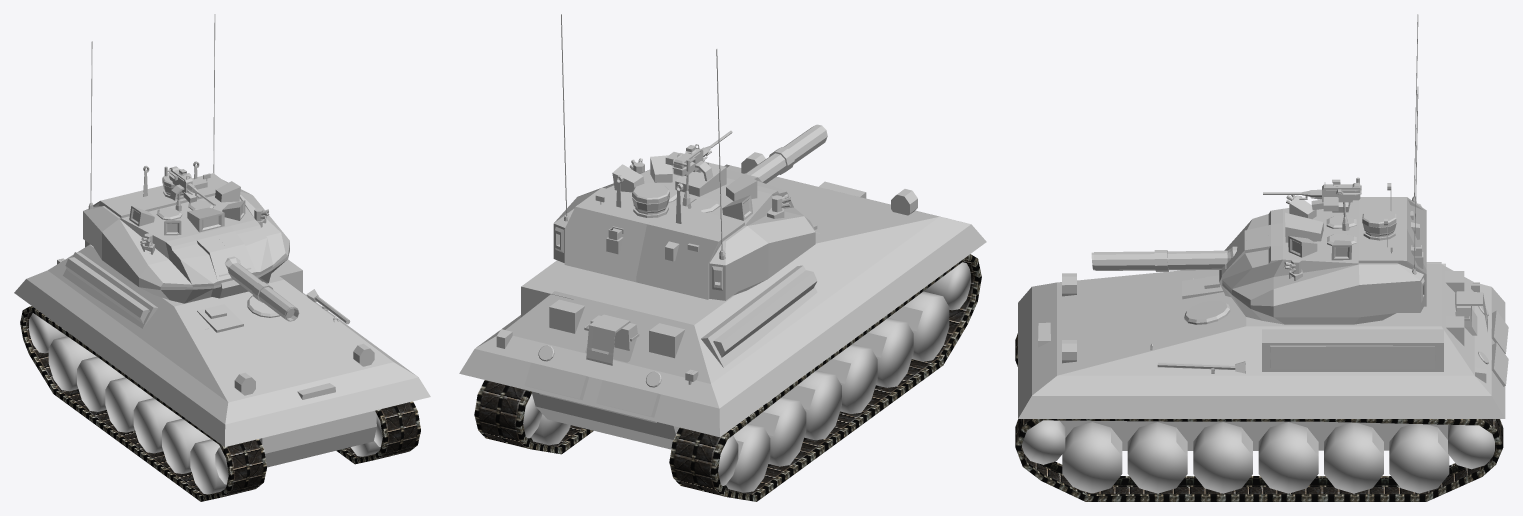
File: FV101 Scorpion.fbx
3 views of the same model, side by side, from view 1: azimuth 30°, elevation 25°; view 2: azimuth 150°, elevation 25°; view 3: azimuth 270°, elevation 25° (orthographic). The views are drawn at different scales.
Parts seen in each view (by area): view 1: polySurface529, polySurface528, polySurface441, polySurface432, polySurface436, polySurface437, polySurface438, polySurface439, polySurface440, polySurface308, polySurface434, polySurface435; view 2: polySurface529, polySurface528, polySurface441, polySurface432, polySurface434, polySurface436, polySurface437, polySurface438, polySurface439, polySurface440, polySurface308, polySurface433 (+2 smaller); view 3: polySurface529, polySurface528, polySurface432, polySurface380, polySurface382, polySurface381, polySurface383, polySurface378, polySurface384, polySurface308, polySurface379, polySurface377.
Part boxes in pixels (<box>): polySurface529: <box>14,240,430,467</box>; polySurface528: <box>83,14,289,303</box>; polySurface441: <box>20,306,266,501</box>; polySurface432: <box>336,401,420,464</box>; polySurface436: <box>162,418,210,473</box>; polySurface437: <box>133,398,181,453</box>; polySurface438: <box>105,377,152,432</box>; polySurface439: <box>77,356,124,411</box>; polySurface440: <box>48,336,96,391</box>; polySurface308: <box>224,256,299,321</box>; polySurface434: <box>190,439,226,494</box>; polySurface435: <box>29,313,66,353</box>; polySurface529: <box>459,152,986,449</box>; polySurface528: <box>553,14,815,300</box>; polySurface441: <box>669,254,981,501</box>; polySurface432: <box>474,380,593,454</box>; polySurface434: <box>888,291,949,361</box>; polySurface436: <box>853,318,913,387</box>; polySurface437: <box>817,344,877,413</box>; polySurface438: <box>782,370,841,440</box>; polySurface439: <box>748,397,806,466</box>; polySurface440: <box>726,423,770,492</box>; polySurface308: <box>745,124,827,183</box>; polySurface433: <box>923,262,970,310</box>; polySurface529: <box>1018,262,1508,450</box>; polySurface528: <box>1219,14,1426,324</box>; polySurface432: <box>1015,419,1503,501</box>; polySurface380: <box>1127,422,1187,493</box>; polySurface382: <box>1258,422,1318,493</box>; polySurface381: <box>1193,422,1252,493</box>; polySurface383: <box>1324,422,1383,493</box>; polySurface378: <box>1062,422,1122,493</box>; polySurface384: <box>1389,424,1449,493</box>; polySurface308: <box>1091,246,1237,271</box>; polySurface379: <box>1448,424,1494,469</box>; polySurface377: <box>1022,420,1065,464</box>.
Bounding box in the file's own units: 11.15 × 17.92 × 20.
